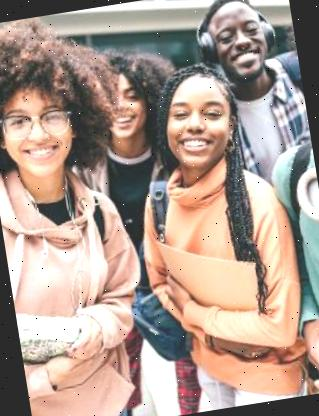person: (104, 49, 318, 416), (0, 7, 160, 416)
